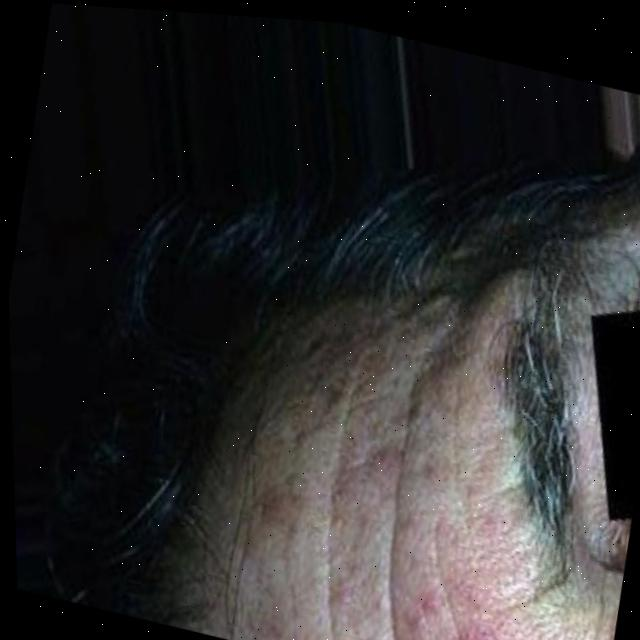Rosacea: (295, 403, 537, 640)
